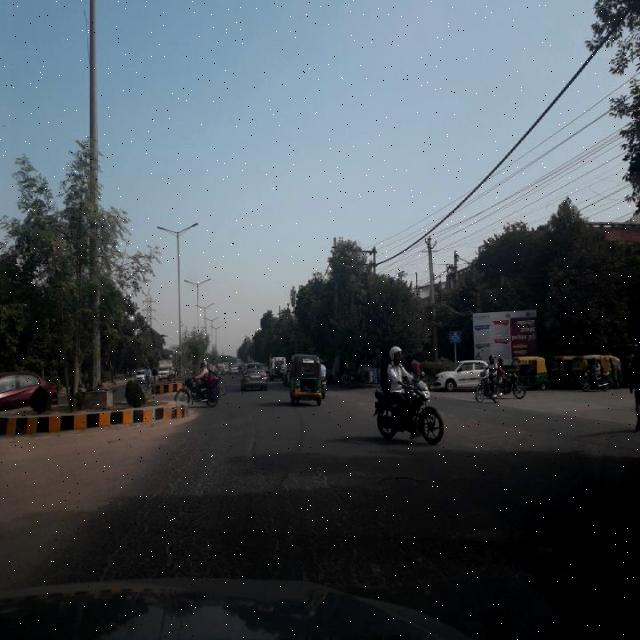D20: (66, 441, 455, 580)
D40: (368, 459, 437, 502)
